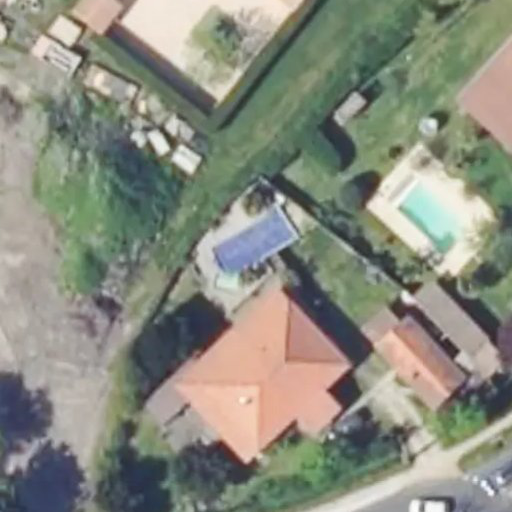pool: (213, 204, 300, 277), (395, 179, 466, 255)
